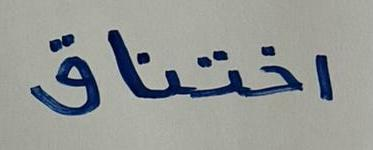alef: (101, 21, 136, 109), (311, 38, 344, 128)
khah: (245, 36, 305, 110)
noon: (140, 41, 184, 113)
qaf: (19, 20, 99, 124)
teh: (187, 36, 242, 116)
